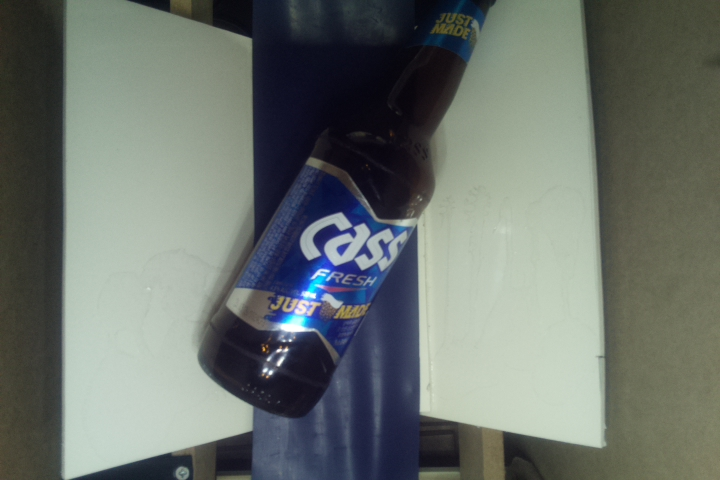makju: (197, 1, 497, 416)
